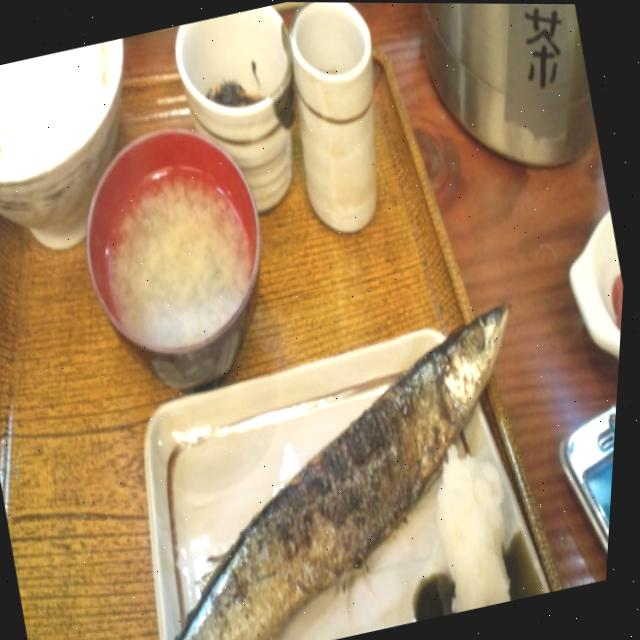米饭主食: (0, 38, 141, 196)
